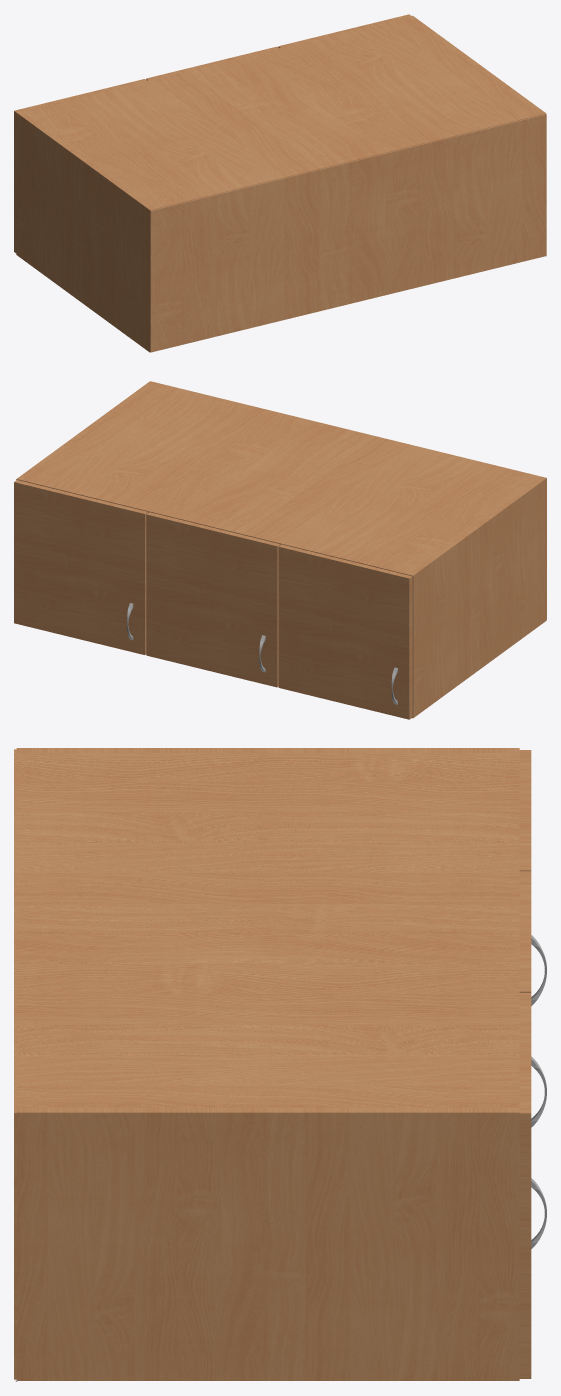
File: antresol_dlya_shkafa_pod_matrasi.glb
3 renders of one model, top to bottom at view 1: azimuth 30°, elevation 25°; view 2: azimuth 150°, elevation 25°; view 3: azimuth 270°, elevation 25°, orthographic. The views are drawn at different scales.
Parts seen in each view (by area): view 1: Shape_IndexedFaceSet.006_NON, Shape_IndexedFaceSet.010, Shape_IndexedFaceSet.008, Shape_IndexedFaceSet.005, Shape_IndexedFaceSet.007; view 2: Shape_IndexedFaceSet.010, Shape_IndexedFaceSet.008, Shape_IndexedFaceSet.005, Shape_IndexedFaceSet.003, Shape_IndexedFaceSet.001, Shape_IndexedFaceSet.007; view 3: Shape_IndexedFaceSet.010, Shape_IndexedFaceSet.007, Shape_IndexedFaceSet.001, Shape_IndexedFaceSet.008, Shape_IndexedFaceSet.006_NON, Shape_IndexedFaceSet.003, Shape_IndexedFaceSet.005.
Boxes of the visible parts, x1,y1,x2,y2 form: Shape_IndexedFaceSet.006_NON: (150,114,546,352); Shape_IndexedFaceSet.010: (22,17,540,209); Shape_IndexedFaceSet.008: (16,111,154,352); Shape_IndexedFaceSet.005: (14,79,146,252); Shape_IndexedFaceSet.007: (408,15,546,114); Shape_IndexedFaceSet.010: (21,382,540,574); Shape_IndexedFaceSet.008: (408,476,546,718); Shape_IndexedFaceSet.005: (278,544,412,719); Shape_IndexedFaceSet.003: (146,512,280,687); Shape_IndexedFaceSet.001: (14,480,147,654); Shape_IndexedFaceSet.007: (16,381,154,480); Shape_IndexedFaceSet.010: (16,753,519,1107); Shape_IndexedFaceSet.007: (16,1107,519,1380); Shape_IndexedFaceSet.001: (519,993,531,1378); Shape_IndexedFaceSet.008: (16,748,519,752); Shape_IndexedFaceSet.006_NON: (14,749,16,1379); Shape_IndexedFaceSet.003: (519,871,531,992); Shape_IndexedFaceSet.005: (519,750,531,871).
Size of the model in its own units: 1201 by 413 by 741.
Materials: 14 (13 with a texture image).
